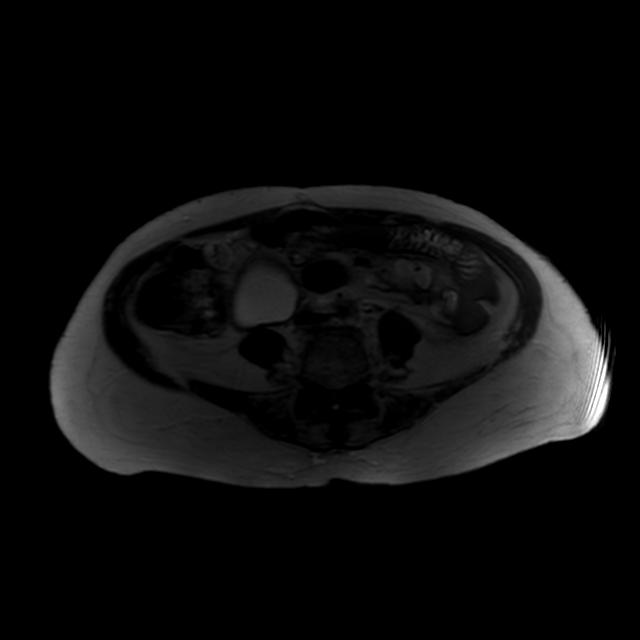sag: (233, 253, 300, 326)
